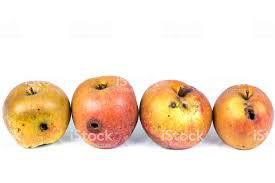damaged_apple: (69, 70, 141, 149), (140, 78, 211, 150), (5, 76, 72, 143), (212, 84, 273, 151)
